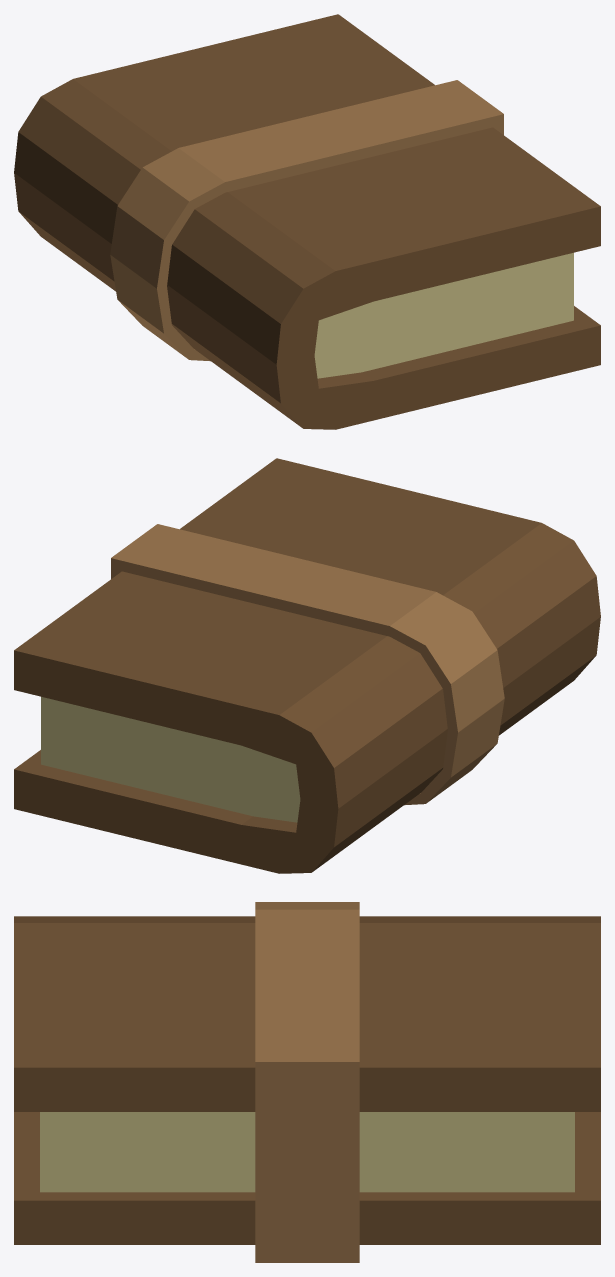
Rendered from Book_5_Brown.fbx.
3 renders of one model, top to bottom at view 1: azimuth 30°, elevation 25°; view 2: azimuth 150°, elevation 25°; view 3: azimuth 270°, elevation 25°, orthographic. The views are drawn at different scales.
Parts seen in each view (by area): view 1: Book_5_Brown_Part_1, Book_5_Brown_Part_3, Book_5_Brown_Part_2; view 2: Book_5_Brown_Part_1, Book_5_Brown_Part_3, Book_5_Brown_Part_2; view 3: Book_5_Brown_Part_1, Book_5_Brown_Part_3, Book_5_Brown_Part_2.
Part boxes in pixels (x1,y1,x2,y2): Book_5_Brown_Part_1: [14, 14, 600, 429]; Book_5_Brown_Part_3: [110, 80, 503, 361]; Book_5_Brown_Part_2: [314, 252, 573, 378]; Book_5_Brown_Part_1: [14, 458, 600, 873]; Book_5_Brown_Part_3: [111, 524, 504, 805]; Book_5_Brown_Part_2: [41, 696, 300, 822]; Book_5_Brown_Part_1: [14, 916, 600, 1244]; Book_5_Brown_Part_3: [255, 902, 359, 1262]; Book_5_Brown_Part_2: [40, 1112, 574, 1192].
Bounding box in the file's own units: 34.35 × 17 × 45.
